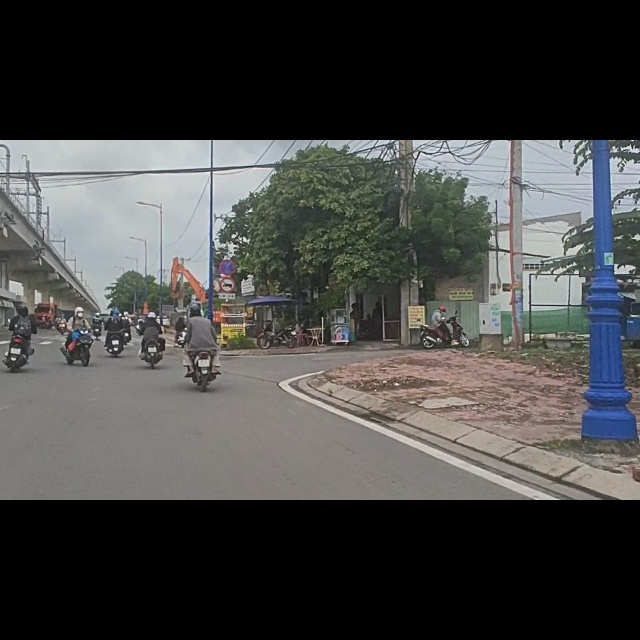bien_nguy_hiem: (218, 243, 238, 273), (219, 212, 237, 242)
